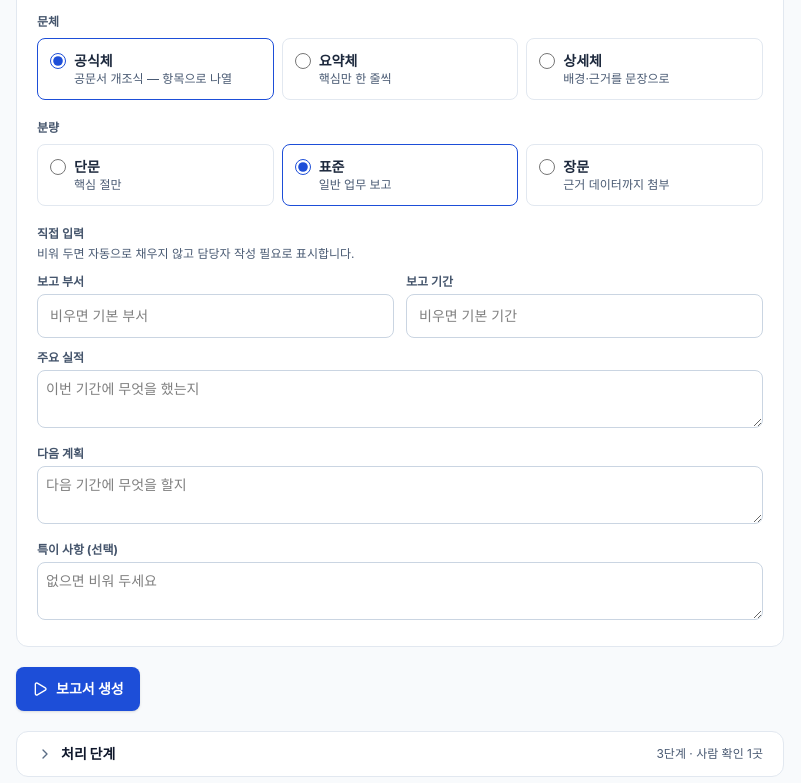
ReportPage › 보고서 설정 › 분량을 줄이면 절이 빠지고, 늘리면 근거 데이터가 붙는다
The width and height of the screenshot is (801, 783).
(page scrolled)
What coordinates should you click on to do the following:
click the button "보고서 생성"
I would click on:
 (78, 689)
Its box is [16, 667, 140, 711].
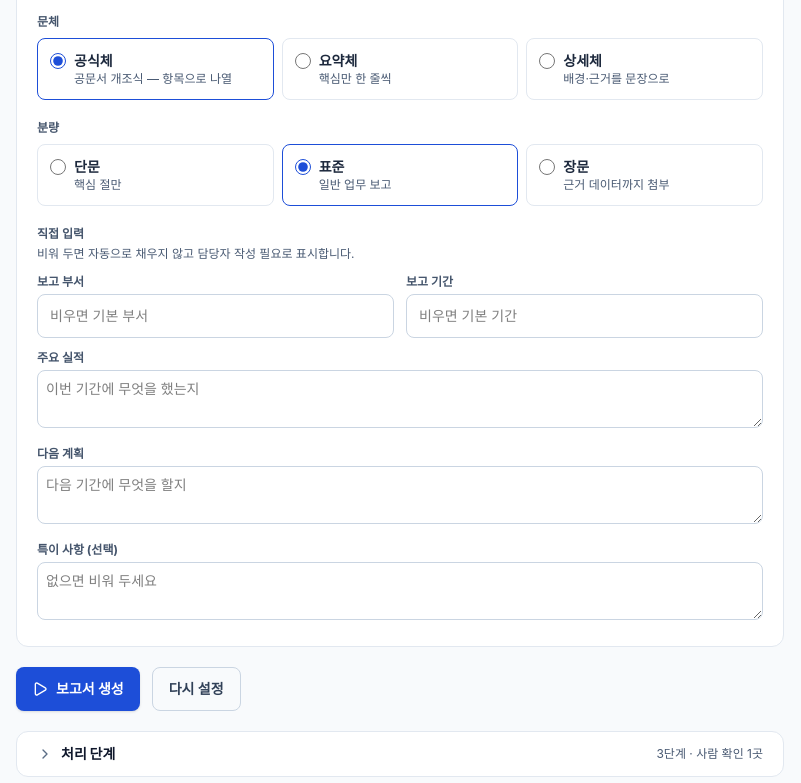
What coordinates should you click on to do the following:
click the radio button labelled "단문 핵심 절만"
I would click on:
 (58, 167)
Its box is [50, 159, 66, 175].
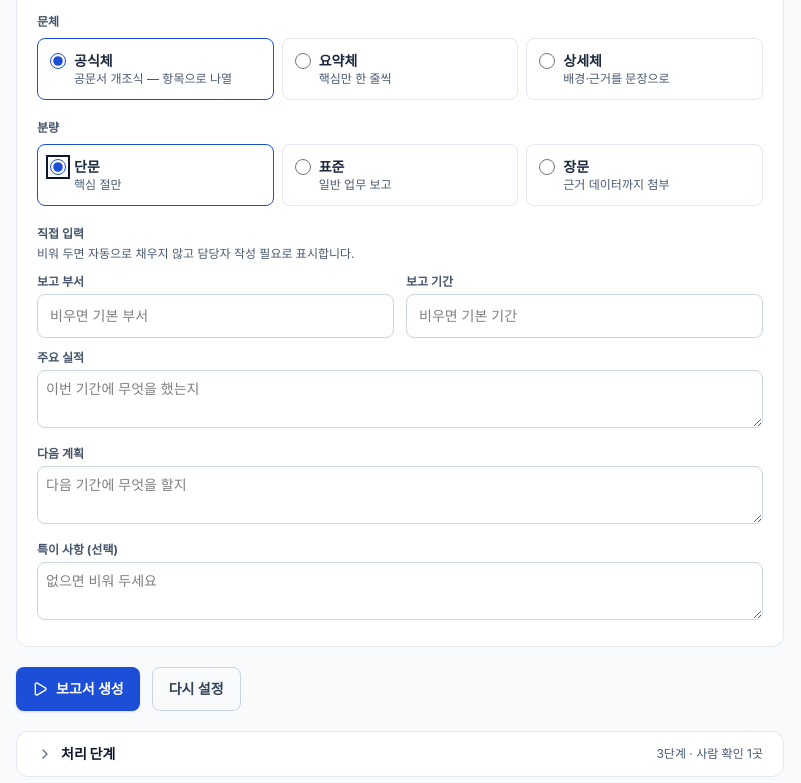
What coordinates should you click on to do the following:
click the button "보고서 생성"
I would click on:
 (78, 689)
Its box is [16, 667, 140, 711].
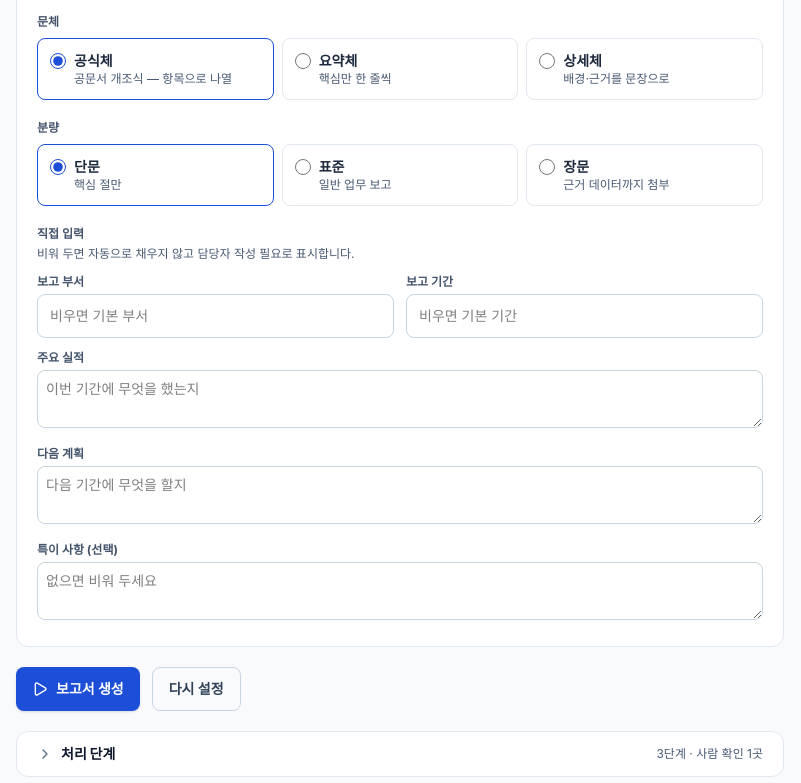
Expected: the text "설비 이상" is not shown
What coordinates should you click on to do the following:
click the radio button labelled "장문 근거 데이터까지 첨부"
I would click on:
 (547, 167)
Its box is [539, 159, 555, 175].
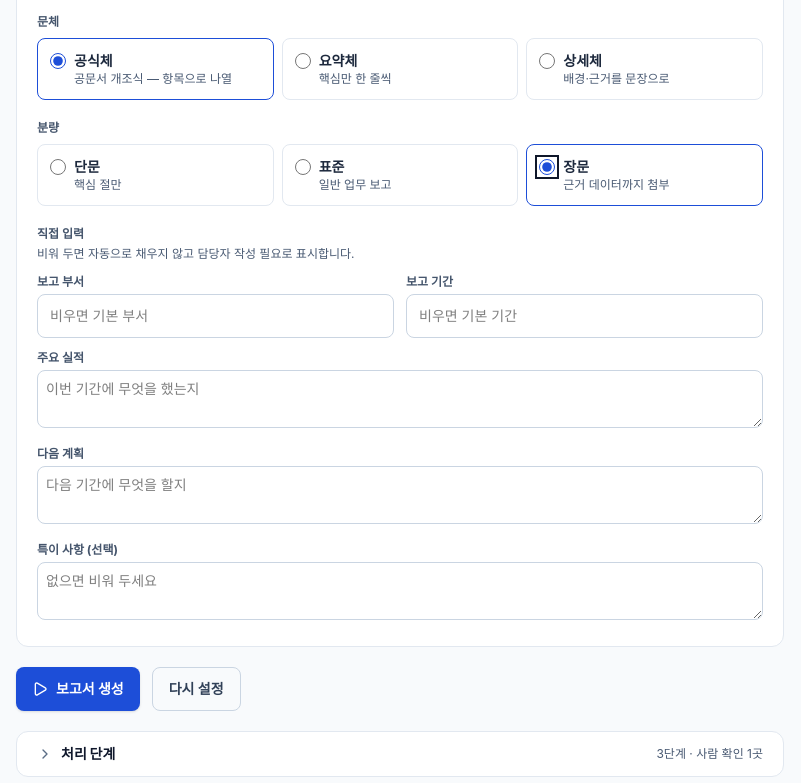
What coordinates should you click on to do the following:
click the button "보고서 생성"
I would click on:
 (78, 689)
Its box is [16, 667, 140, 711].
(page scrolled)
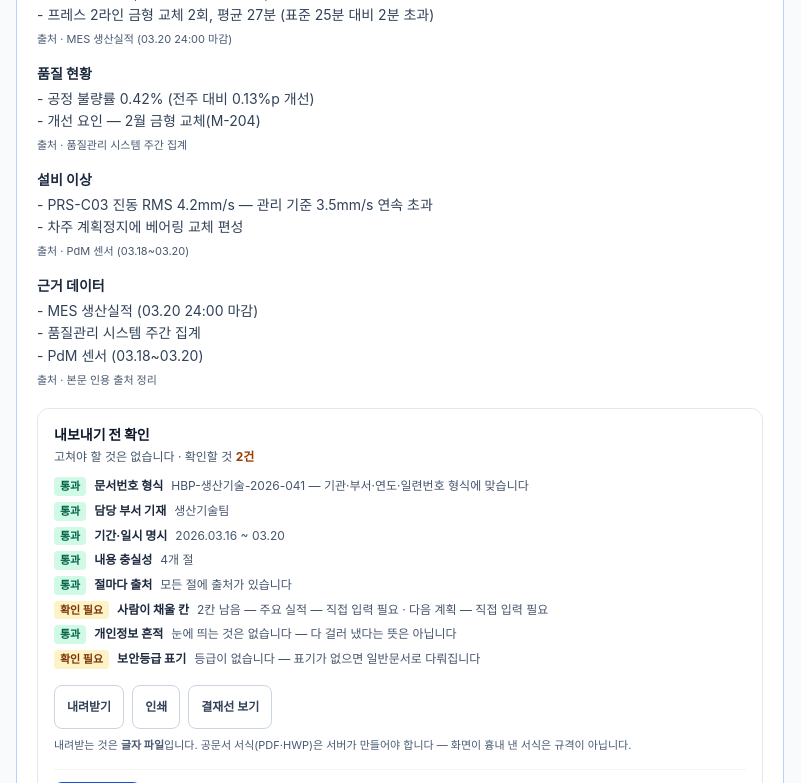
Expected: the element "주간 실적 보고" shows "근거 데이터", [37, 276, 105, 294]
